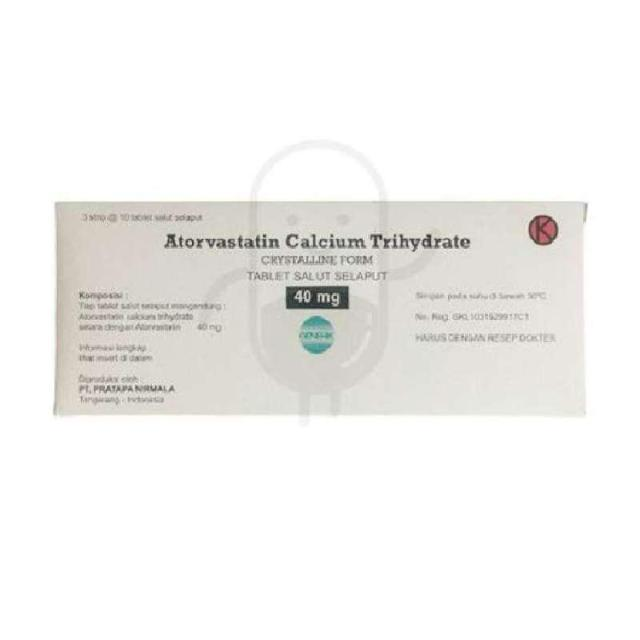drug-name: (163, 230, 470, 252)
